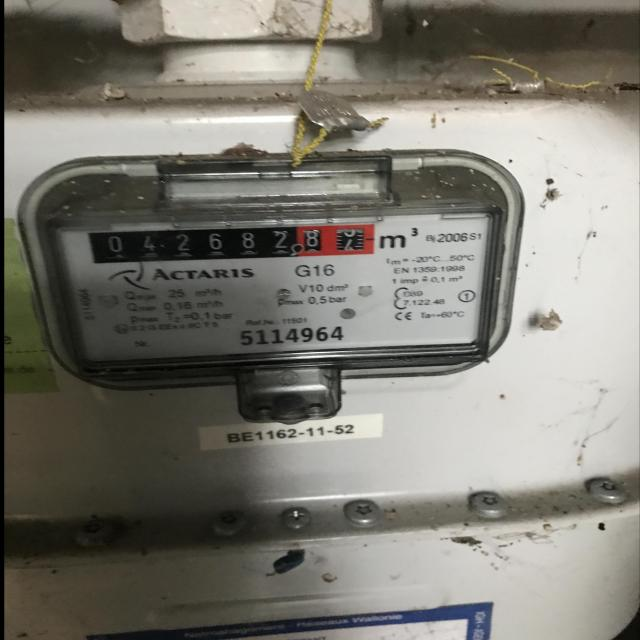gaz_meter: (54, 218, 498, 359)
indication: (88, 224, 377, 264)
